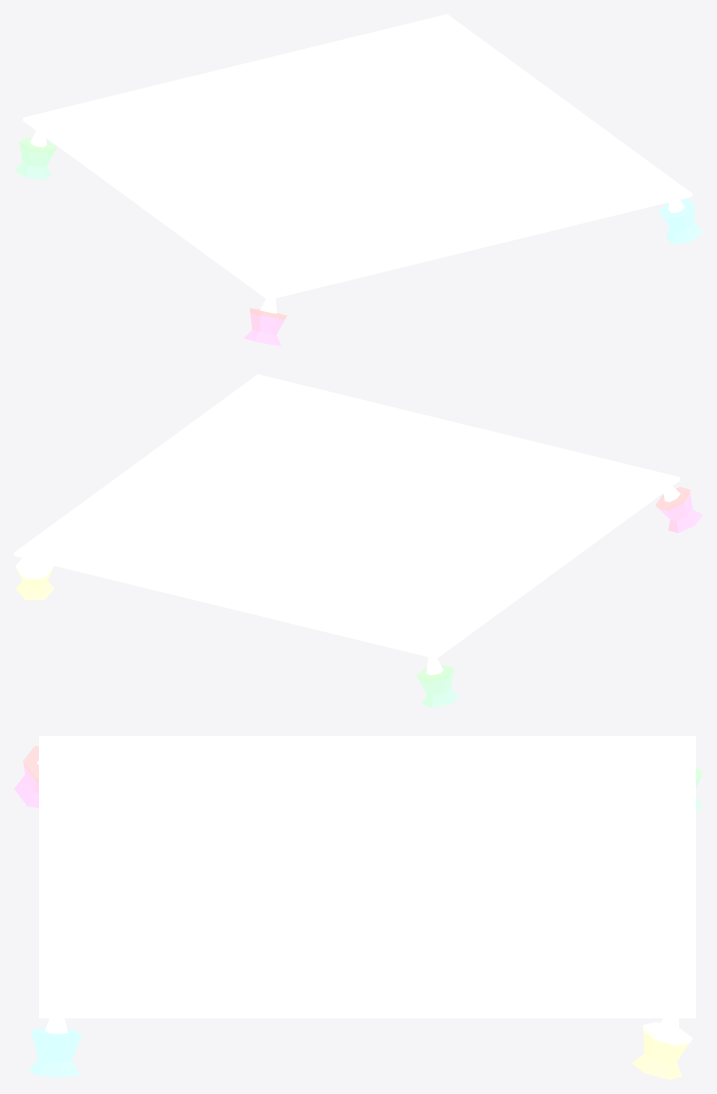
The model's file is Pin.gltf.
The picture shows the model from 3 angles, top to bottom: view 1: azimuth 30°, elevation 25°; view 2: azimuth 150°, elevation 25°; view 3: azimuth 270°, elevation 25°; orthographic projection. The views are drawn at different scales.
Parts seen in each view (by area): view 1: PF_Pin; view 2: PF_Pin; view 3: PF_Pin.
Boxes of the visible parts, bbox=[...] form: PF_Pin: bbox=[14, 14, 702, 345]; PF_Pin: bbox=[14, 374, 702, 707]; PF_Pin: bbox=[14, 736, 702, 1079].
Size of the model in its own units: 120 by 15.59 by 117.
